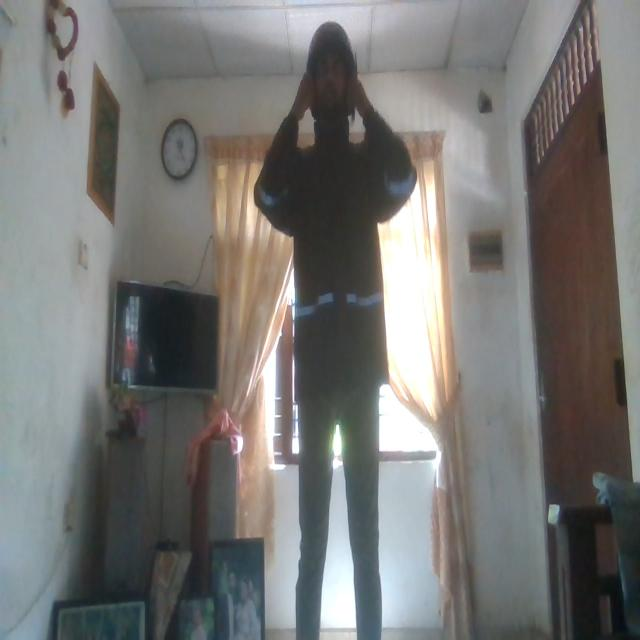Helmet_Wearer: (305, 19, 357, 157)
Jacket_Wearer: (251, 108, 413, 408)
Person: (246, 30, 410, 640)
